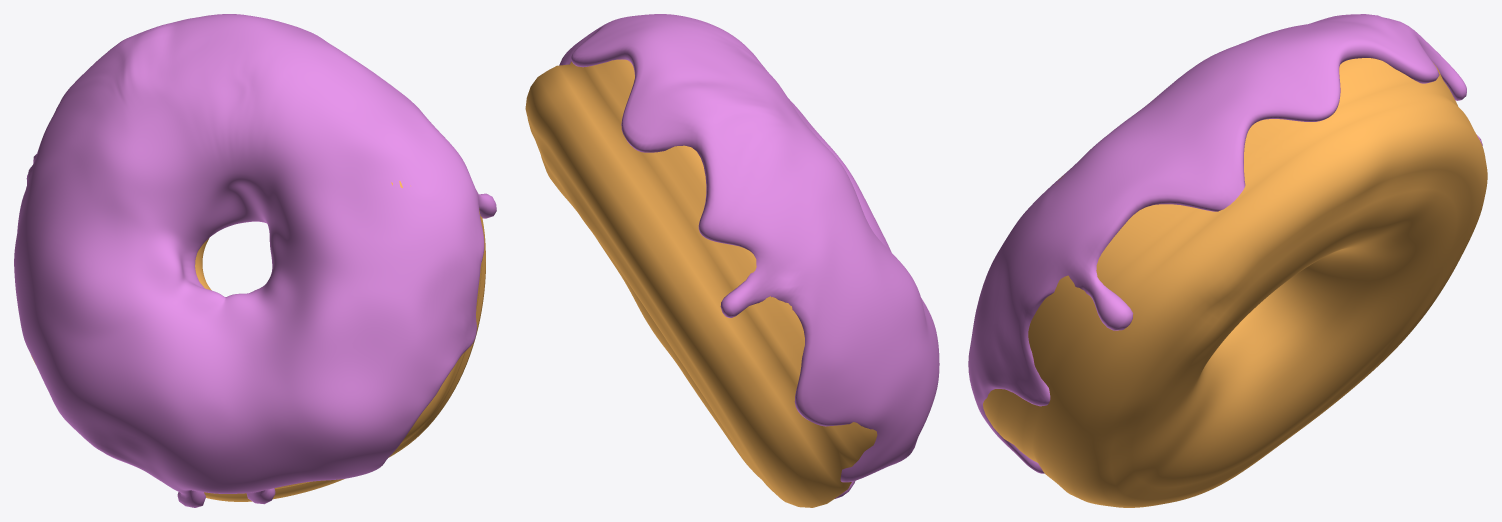
Rendered from DONUT3.fbx.
The picture shows the model from 3 angles, left to right: view 1: azimuth 30°, elevation 25°; view 2: azimuth 150°, elevation 25°; view 3: azimuth 270°, elevation 25°; orthographic projection. The views are drawn at different scales.
Parts seen in each view (by area): view 1: Icing, Donut; view 2: Icing, Donut; view 3: Donut, Icing.
Boxes of the visible parts, left/top/right/bottom form: Icing: left=14, top=14, right=496, bottom=507; Donut: left=31, top=181, right=485, bottom=501; Icing: left=559, top=14, right=939, bottom=498; Donut: left=525, top=59, right=877, bottom=507; Donut: left=983, top=58, right=1487, bottom=507; Icing: left=968, top=14, right=1482, bottom=473.
Size of the model in its own units: 266 by 280 by 268.
